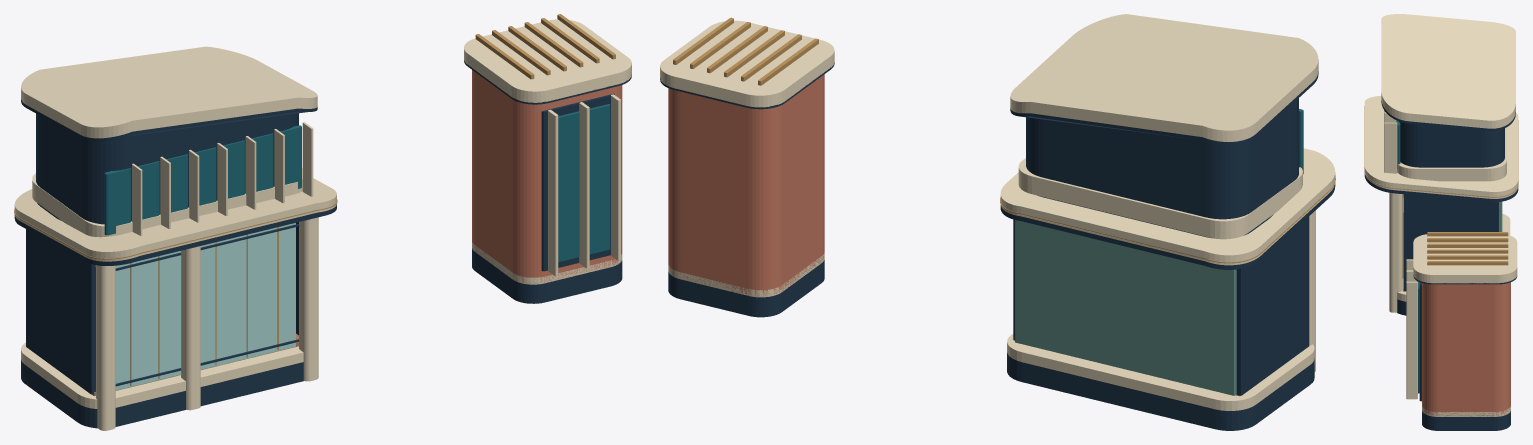
The model's file is sunward-atelier-camera.glb.
3 renders of one model, left to right at view 1: azimuth 30°, elevation 25°; view 2: azimuth 150°, elevation 25°; view 3: azimuth 270°, elevation 25°, orthographic. The views are drawn at different scales.
Parts seen in each view (by area): view 1: Swept porcelain crown Camera, Right coral chamber Camera, Clear gallery pane.001 Camera, Upper shaded gallery Camera, Gallery side return Camera, Clear gallery pane Camera, Swept gallery edge Camera, Right chamber roof Camera, Right deep glazing Camera, Left grounded plinth Camera, Left stone sill Camera, Tapered structural pier Camera (+26 smaller); view 2: Right coral chamber Camera, Swept porcelain crown Camera, Gallery interior back Camera, Upper shaded gallery Camera, Swept gallery edge Camera, Gallery side return Camera, Right chamber roof Camera, Left grounded plinth Camera, Left stone sill Camera, Upper ceramic ribbon Camera, Right grounded plinth Camera, Gallery underside Camera (+4 smaller); view 3: Swept porcelain crown Camera, Right coral chamber Camera, Swept gallery edge Camera, Upper shaded gallery Camera, Gallery side return.001 Camera, Right chamber roof Camera, Upper ceramic ribbon Camera, Tapered structural pier.002 Camera, Right ceramic blade.002 Camera, Right grounded plinth Camera, Upper fin.006 Camera, Gallery underside Camera (+14 smaller).
Part boxes in pixels (x1,y1,x2,y2): Swept porcelain crown Camera: (21,46,317,138); Right coral chamber Camera: (472,70,622,283); Clear gallery pane.001 Camera: (200,223,295,369); Upper shaded gallery Camera: (36,113,298,224); Gallery side return Camera: (26,229,95,394); Clear gallery pane Camera: (115,251,180,390); Swept gallery edge Camera: (14,178,336,261); Right chamber roof Camera: (464,19,631,102); Right deep glazing Camera: (558,104,610,261); Left grounded plinth Camera: (21,359,303,428); Left stone sill Camera: (21,342,303,408); Tapered structural pier Camera: (96,265,115,430); Right coral chamber Camera: (668,74,824,296); Swept porcelain crown Camera: (1010,14,1318,141); Gallery interior back Camera: (1015,220,1236,395); Upper shaded gallery Camera: (1026,98,1298,238); Swept gallery edge Camera: (1000,148,1335,265); Gallery side return Camera: (1236,216,1309,395); Right chamber roof Camera: (660,20,834,107); Left grounded plinth Camera: (1007,352,1314,430); Left stone sill Camera: (1007,334,1314,410); Upper ceramic ribbon Camera: (1018,158,1302,239); Right grounded plinth Camera: (668,260,824,317); Gallery underside Camera: (1000,183,1335,269); Swept porcelain crown Camera: (1381,14,1515,128); Right coral chamber Camera: (1422,282,1510,416); Swept gallery edge Camera: (1364,96,1518,198); Upper shaded gallery Camera: (1399,121,1504,167); Gallery side return.001 Camera: (1403,194,1498,290); Right chamber roof Camera: (1413,234,1517,283); Upper ceramic ribbon Camera: (1397,127,1506,181); Tapered structural pier.002 Camera: (1389,193,1402,312); Right ceramic blade.002 Camera: (1406,281,1417,399); Right grounded plinth Camera: (1422,411,1510,430); Upper fin.006 Camera: (1384,122,1397,173); Gallery underside Camera: (1364,174,1518,202).
Bounding box in the file's own units: 17.41 × 9.04 × 5.63.
